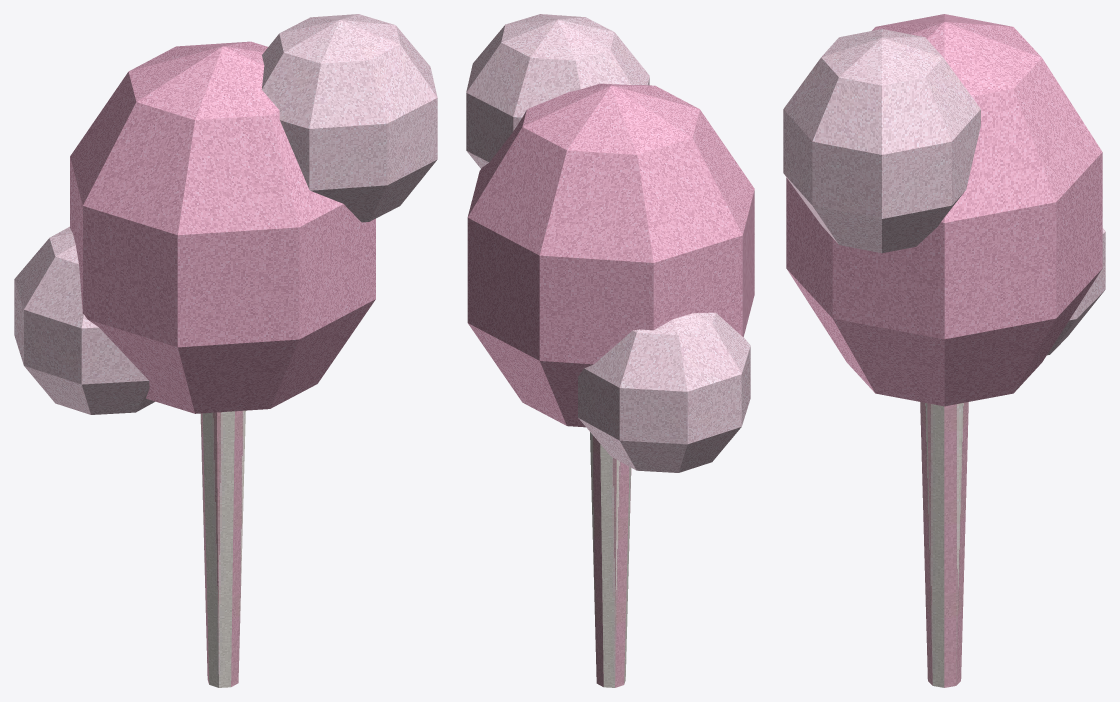
The picture shows the model from 3 angles, left to right: view 1: azimuth 30°, elevation 25°; view 2: azimuth 150°, elevation 25°; view 3: azimuth 270°, elevation 25°; orthographic projection. The views are drawn at different scales.
Visible parts, largest first — view 1: cotton_candy; view 2: cotton_candy; view 3: cotton_candy.
Boxes of the visible parts, x1,y1,x2,y2 form: cotton_candy: (14, 14, 437, 687); cotton_candy: (466, 14, 754, 687); cotton_candy: (783, 14, 1105, 687).
Bounding box in the file's own units: 0.1999 × 0.365 × 0.1551.
3 materials, 3 textured.
